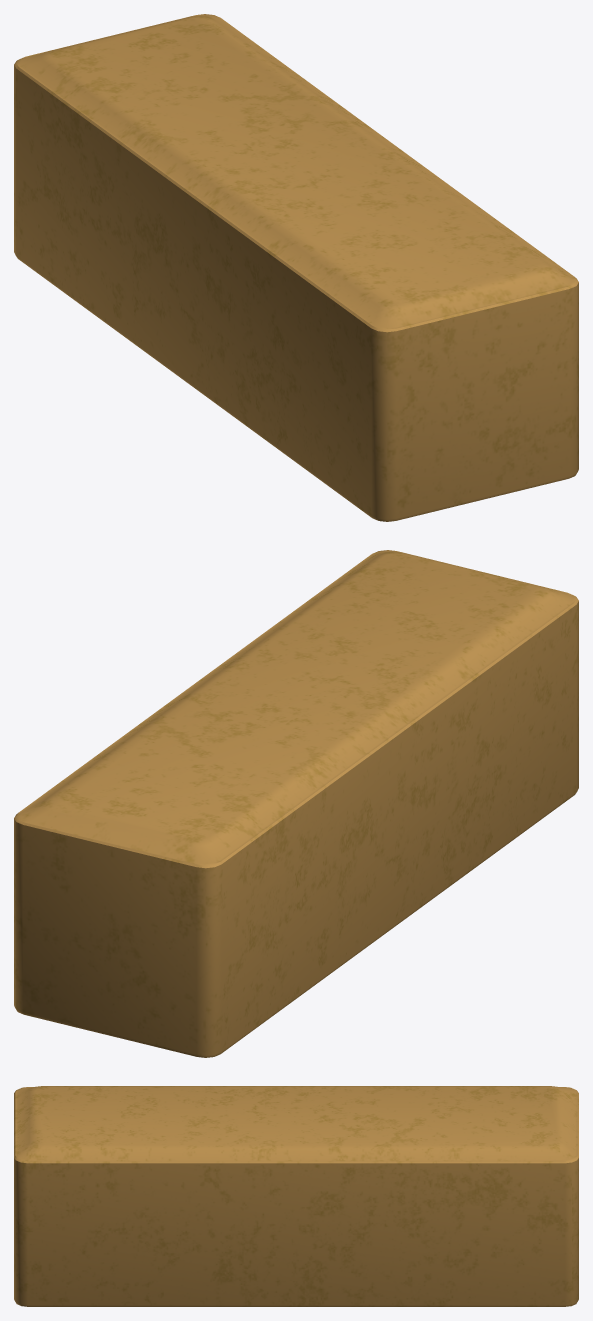
File: mini_classic-yellow.glb
3 renders of one model, top to bottom at view 1: azimuth 30°, elevation 25°; view 2: azimuth 150°, elevation 25°; view 3: azimuth 270°, elevation 25°, orthographic. The views are drawn at different scales.
Visible parts, largest first — view 1: Colonial Classic Mini; view 2: Colonial Classic Mini; view 3: Colonial Classic Mini.
Boxes of the visible parts, x1,y1,x2,y2 form: Colonial Classic Mini: [14, 14, 578, 521]; Colonial Classic Mini: [14, 550, 578, 1057]; Colonial Classic Mini: [14, 1086, 578, 1306].
Bounding box in the file's own units: 0.0635 × 0.0603 × 0.2.
Materials: 1 (1 with a texture image).
